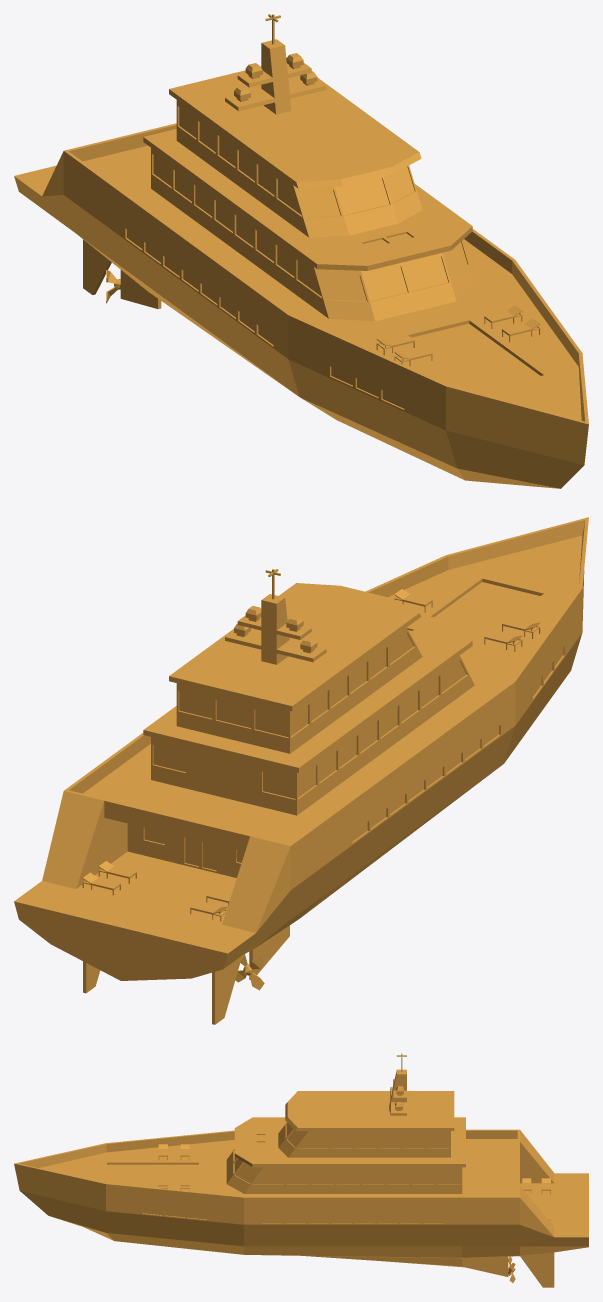
The model's file is ship-yacht.glb.
The picture shows the model from 3 angles, top to bottom: view 1: azimuth 30°, elevation 25°; view 2: azimuth 150°, elevation 25°; view 3: azimuth 270°, elevation 25°; orthographic projection. The views are drawn at different scales.
Parts seen in each view (by area): view 1: ship-yacht; view 2: ship-yacht; view 3: ship-yacht.
Part boxes in pixels (x1,y1,x2,y2): ship-yacht: [14, 14, 588, 488]; ship-yacht: [14, 517, 588, 1024]; ship-yacht: [14, 1053, 588, 1287].
Bounding box in the file's own units: 14 × 20.52 × 49.99.
